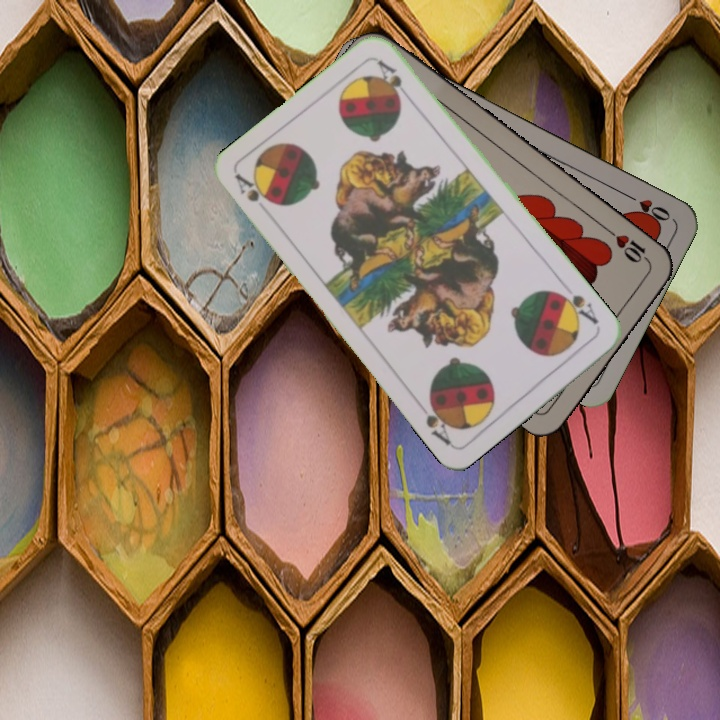H10: (604, 225, 654, 268)
HO: (620, 189, 673, 226)
SA: (552, 287, 601, 328), (231, 169, 275, 207)
